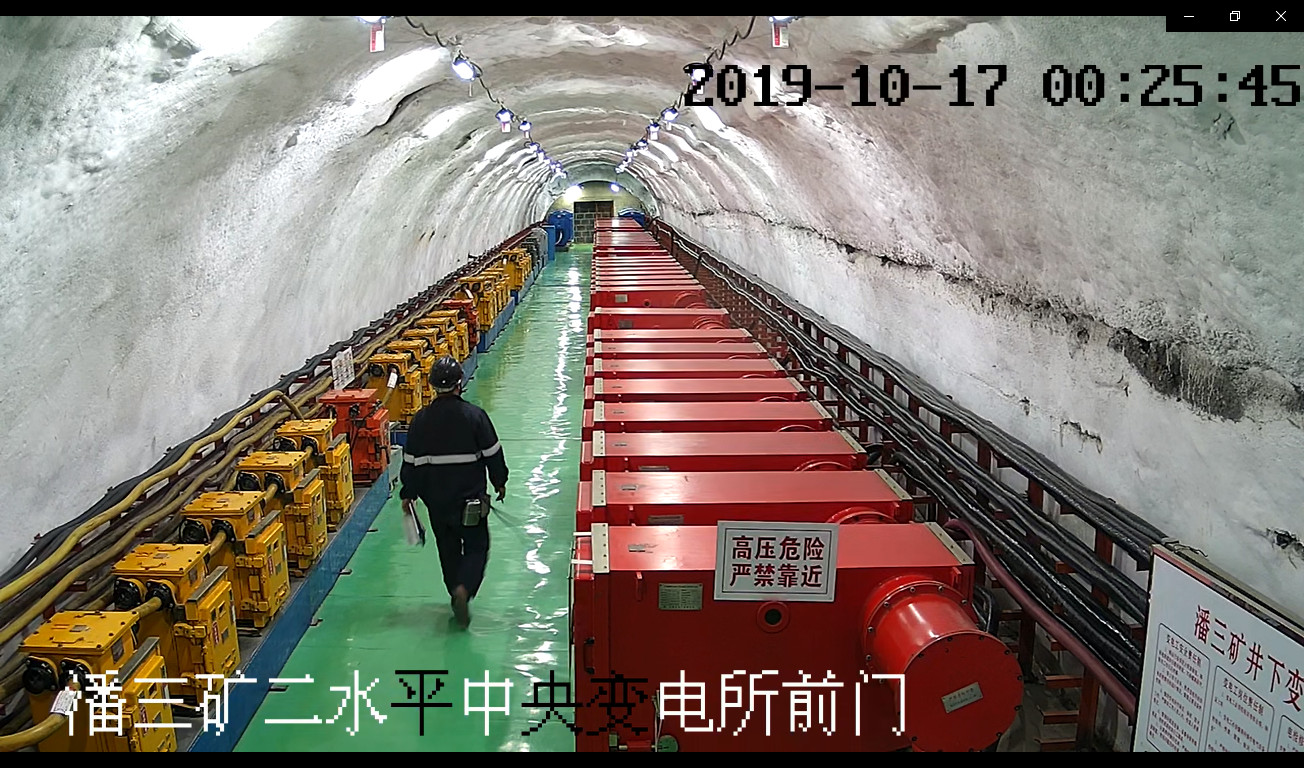helmet: (428, 353, 464, 393)
